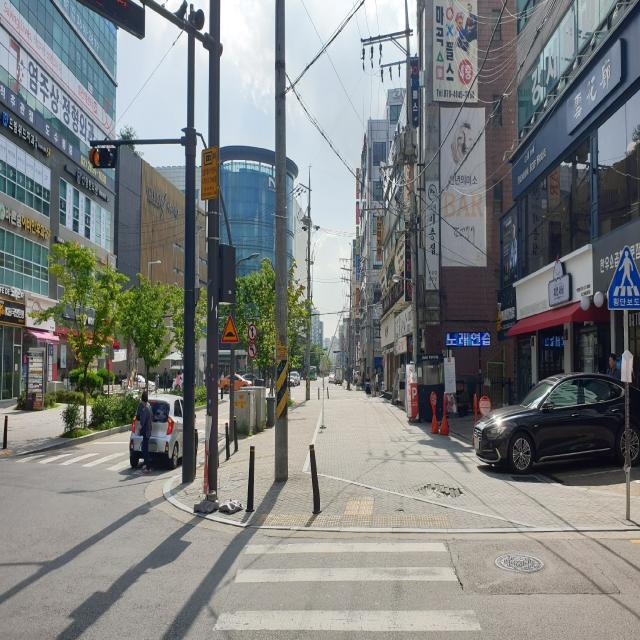횡단보도: (212, 540, 483, 633)
